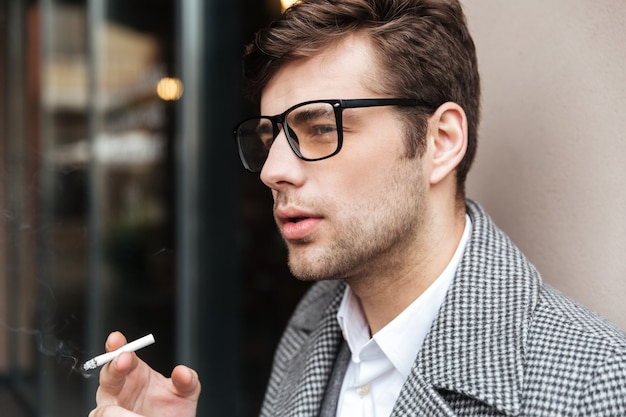cigarette: (81, 330, 157, 373)
